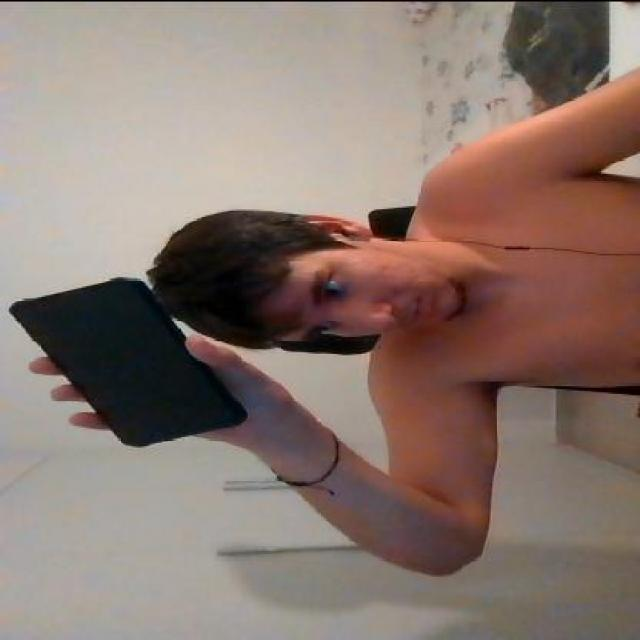phone: (10, 278, 244, 447)
